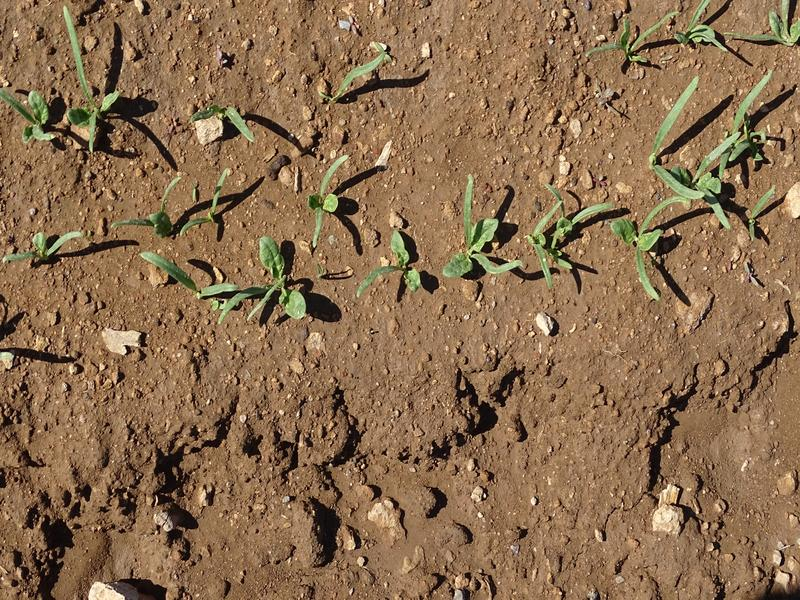Espinaca: (635, 78, 774, 303), (448, 185, 621, 306), (13, 13, 131, 152), (143, 239, 314, 322), (591, 5, 800, 63), (133, 180, 231, 230), (369, 221, 424, 296), (306, 168, 350, 241), (336, 53, 381, 105), (13, 230, 85, 261), (202, 102, 251, 139)
